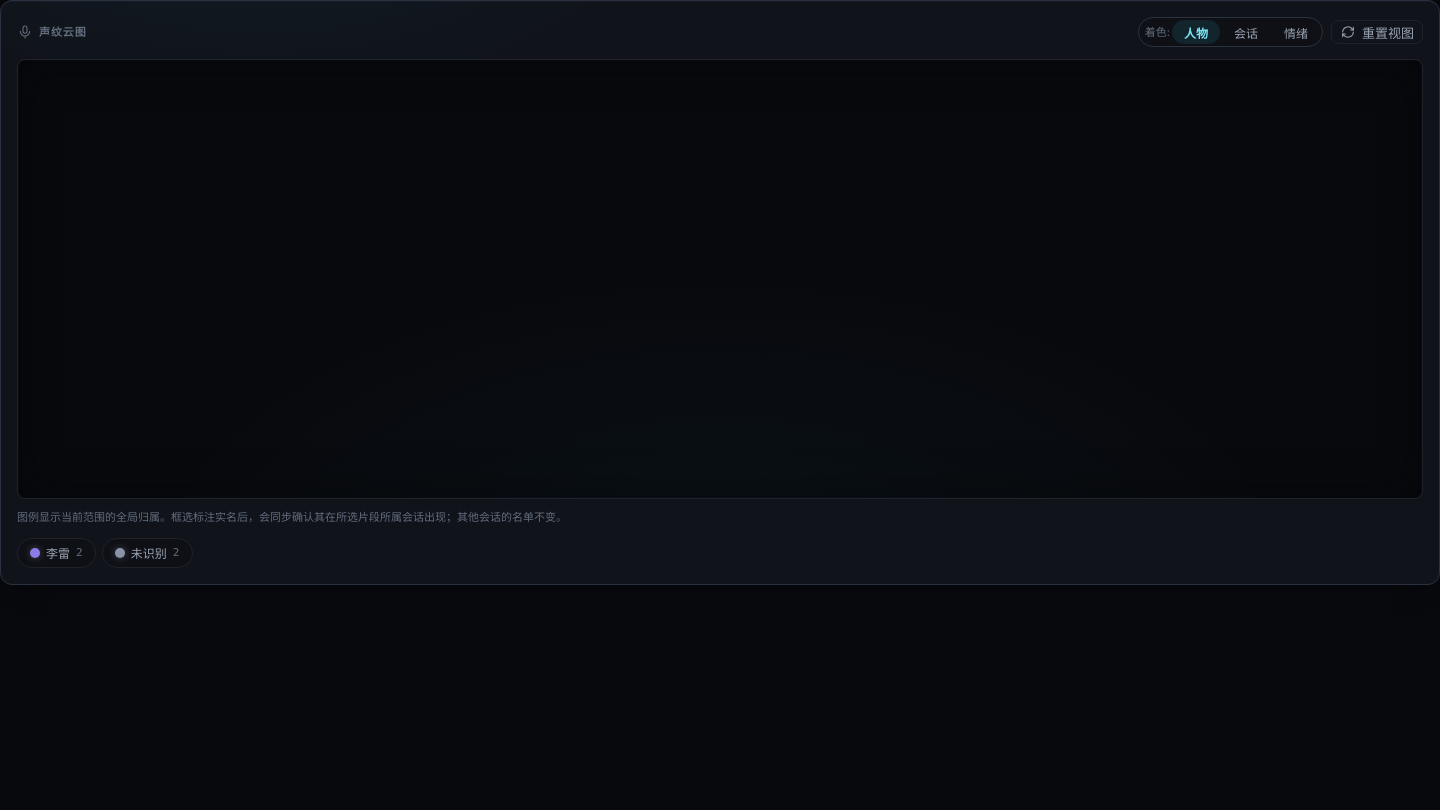
Test case: VoiceprintMap › toggling to 情绪 colour mode fetches emotion labels and switches the legend to emotion classes
Check: the list named "图例" is shown, box [17, 538, 192, 568]
Check: the text "李雷" is shown, box [46, 544, 70, 561]
Click the button "情绪" at (1296, 32), box [1272, 20, 1320, 44]
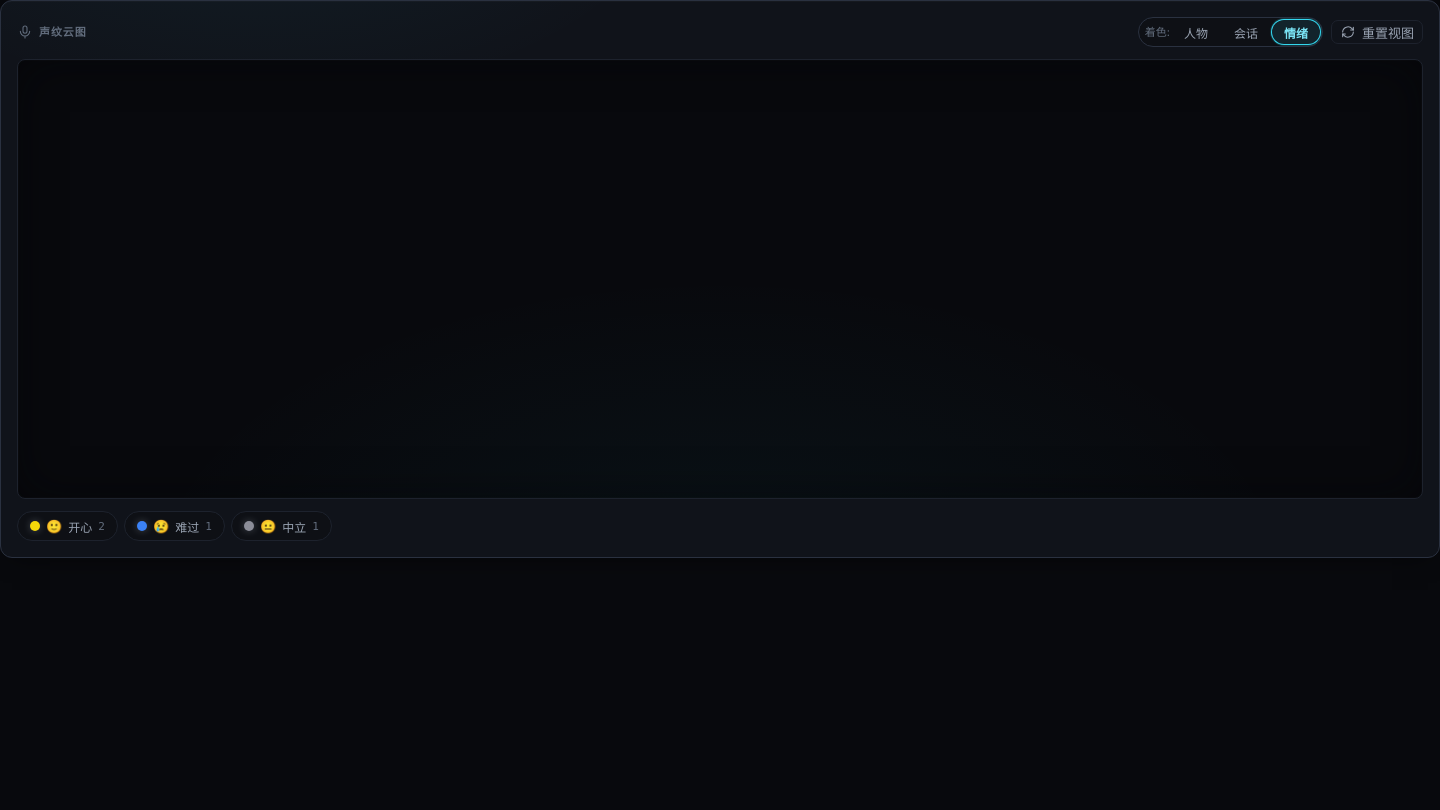
Check: the list named "图例" shows "开心", box [17, 511, 118, 541]
Check: the list named "图例" shows "难过", box [124, 511, 225, 541]
Check: the list named "图例" shows "中立", box [231, 511, 332, 541]
